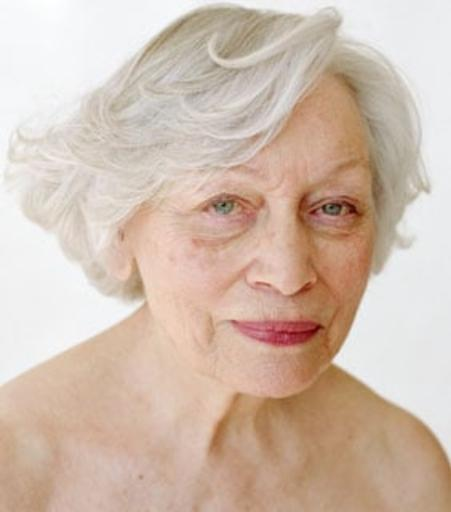left_eye: (307, 201, 361, 224)
left_lip_corner: (313, 322, 330, 336)
right_eye: (197, 198, 260, 224)
right_lip_corner: (220, 315, 246, 335)
